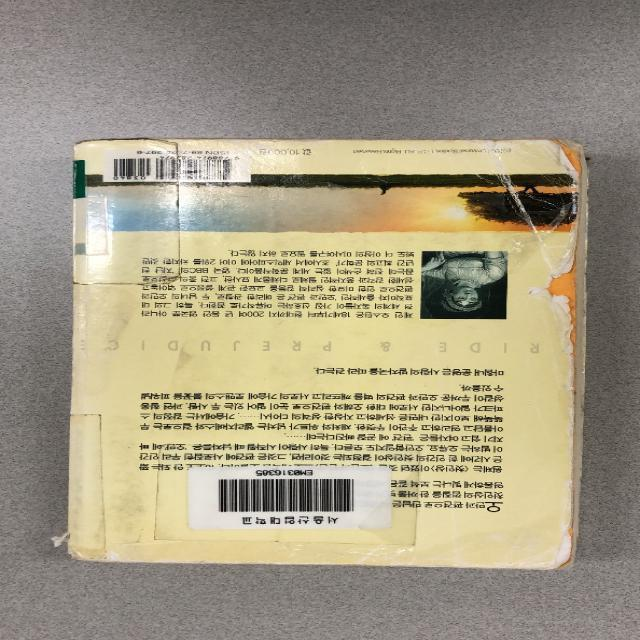Ripped: (523, 244, 579, 367), (47, 517, 95, 570), (554, 509, 586, 572), (549, 139, 585, 184)
Wornout: (66, 131, 342, 158), (93, 557, 554, 572), (558, 367, 580, 508)
